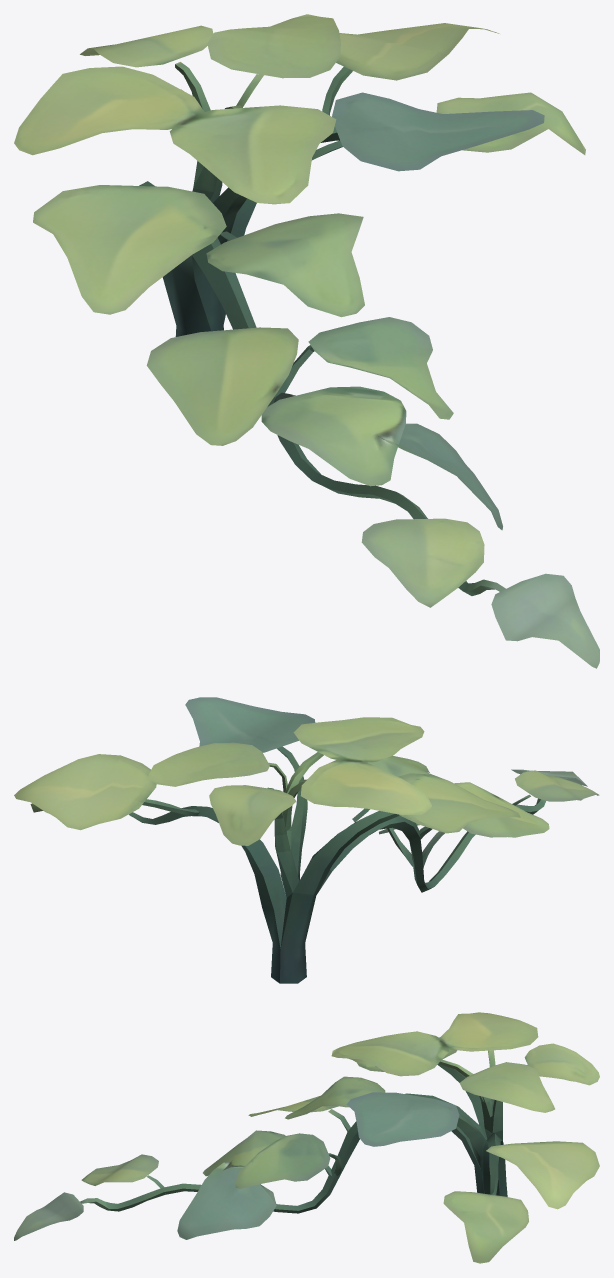
Rendered from SM_Ivy_02.fbx.
3 views of the same model, one above another, from view 1: azimuth 30°, elevation 25°; view 2: azimuth 150°, elevation 25°; view 3: azimuth 270°, elevation 25° (orthographic). The views are drawn at different scales.
Parts seen in each view (by area): view 1: SM_Ivy_02; view 2: SM_Ivy_02; view 3: SM_Ivy_02.
Boxes of the visible parts, left/top/right/bottom form: SM_Ivy_02: left=14, top=14, right=599, bottom=668; SM_Ivy_02: left=14, top=697, right=599, bottom=983; SM_Ivy_02: left=14, top=1012, right=599, bottom=1263.
Bounding box in the file's own units: 61.12 × 29.98 × 85.43.
Materials: 1 (1 with a texture image).
